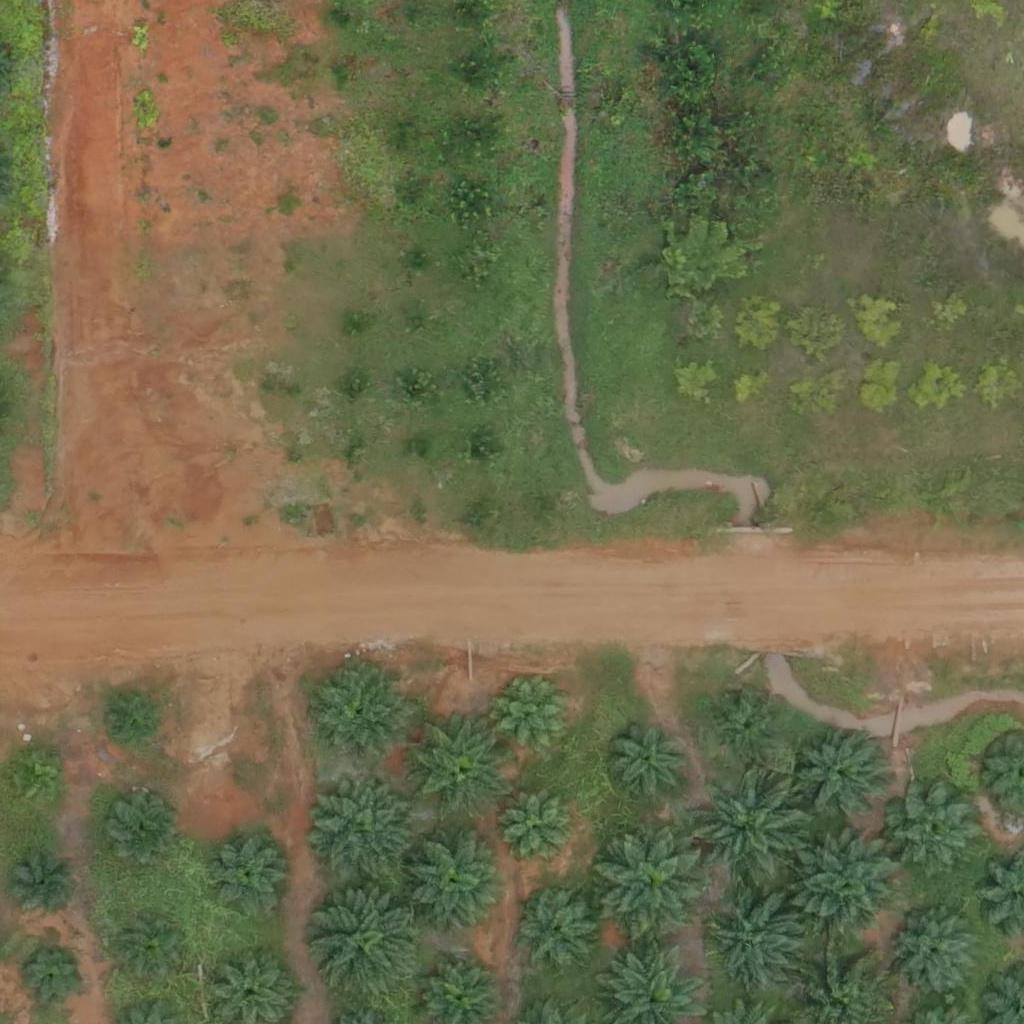Kelapa_Sawit: (695, 759, 820, 884), (310, 776, 423, 890), (316, 883, 429, 997), (597, 823, 710, 936), (311, 663, 411, 764), (409, 714, 509, 815), (710, 889, 810, 990), (798, 835, 898, 936), (409, 834, 509, 934), (799, 733, 887, 821), (606, 719, 693, 808), (494, 672, 581, 760), (890, 787, 977, 875), (892, 912, 979, 1000), (117, 906, 192, 982), (101, 796, 176, 872), (210, 837, 285, 913), (524, 896, 599, 972), (499, 789, 574, 864), (4, 852, 79, 927), (18, 942, 93, 1017), (2, 750, 65, 813), (94, 688, 157, 751), (719, 696, 781, 759)
